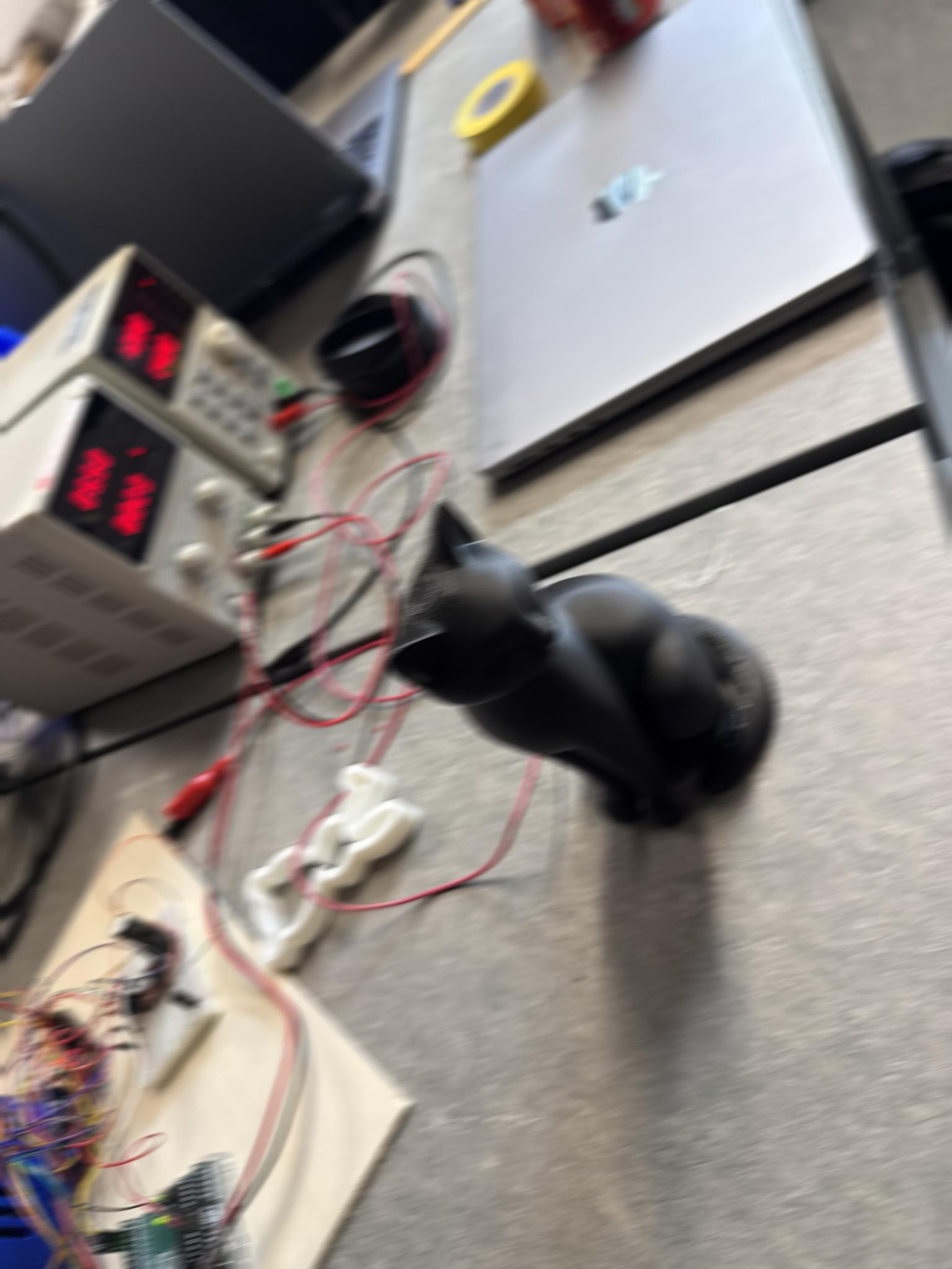cat: (386, 501, 777, 826)
